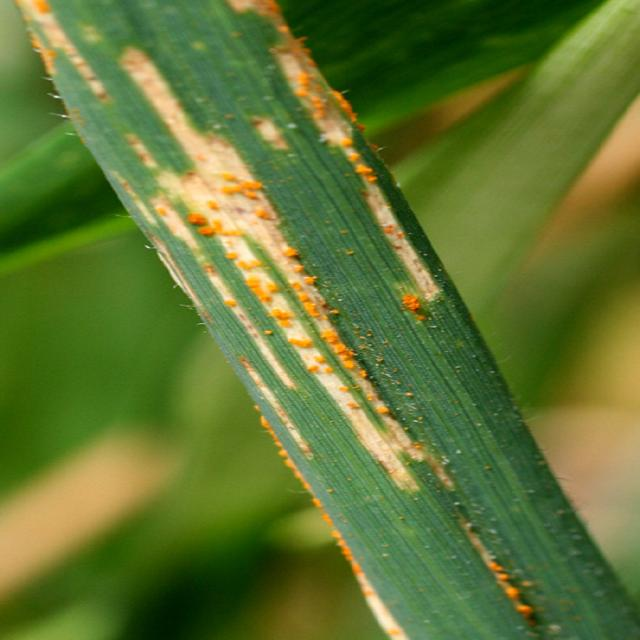leaf_rust: (20, 0, 639, 639)
